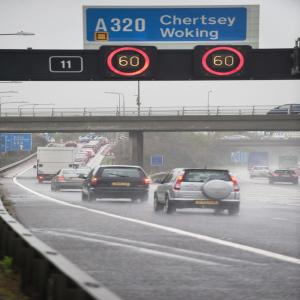Vehicle-registration-plate: (197, 202, 218, 206), (113, 183, 131, 187)
